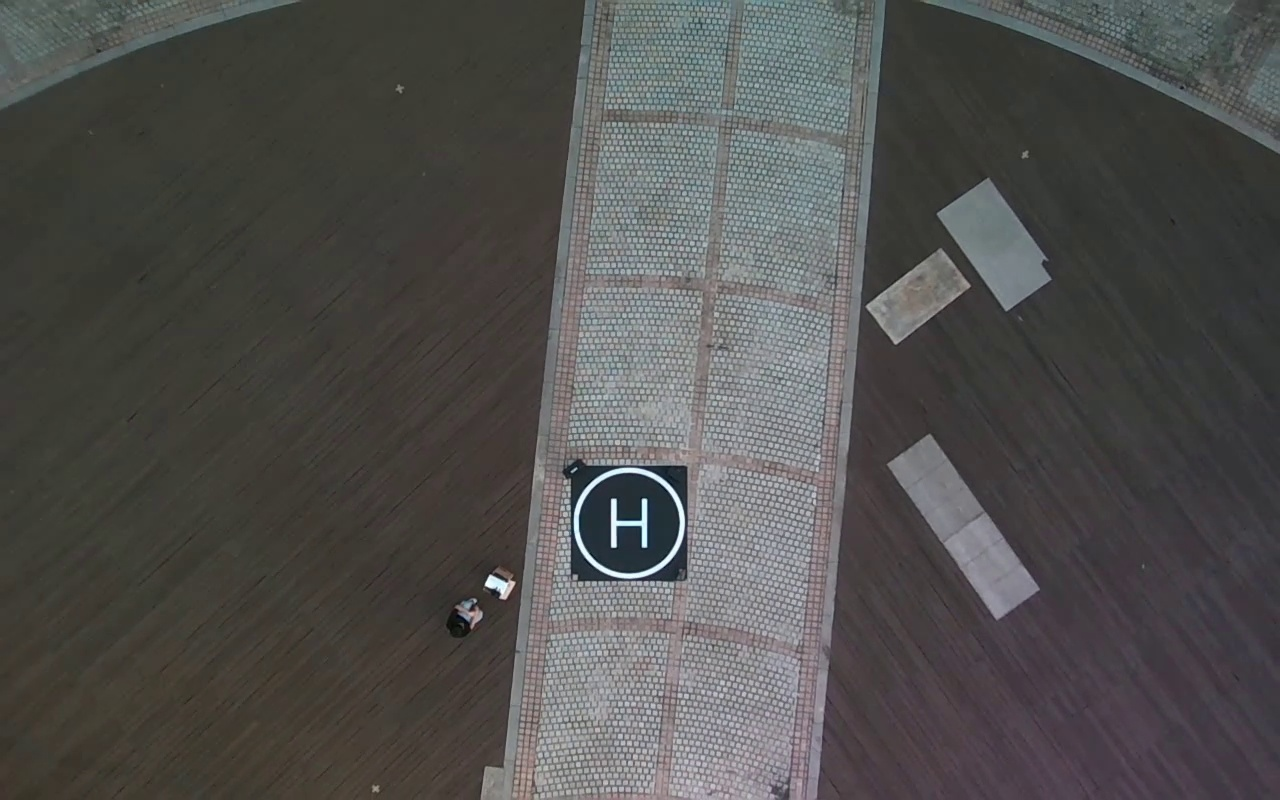H: (611, 496, 646, 549)
heliport: (572, 467, 686, 580)
